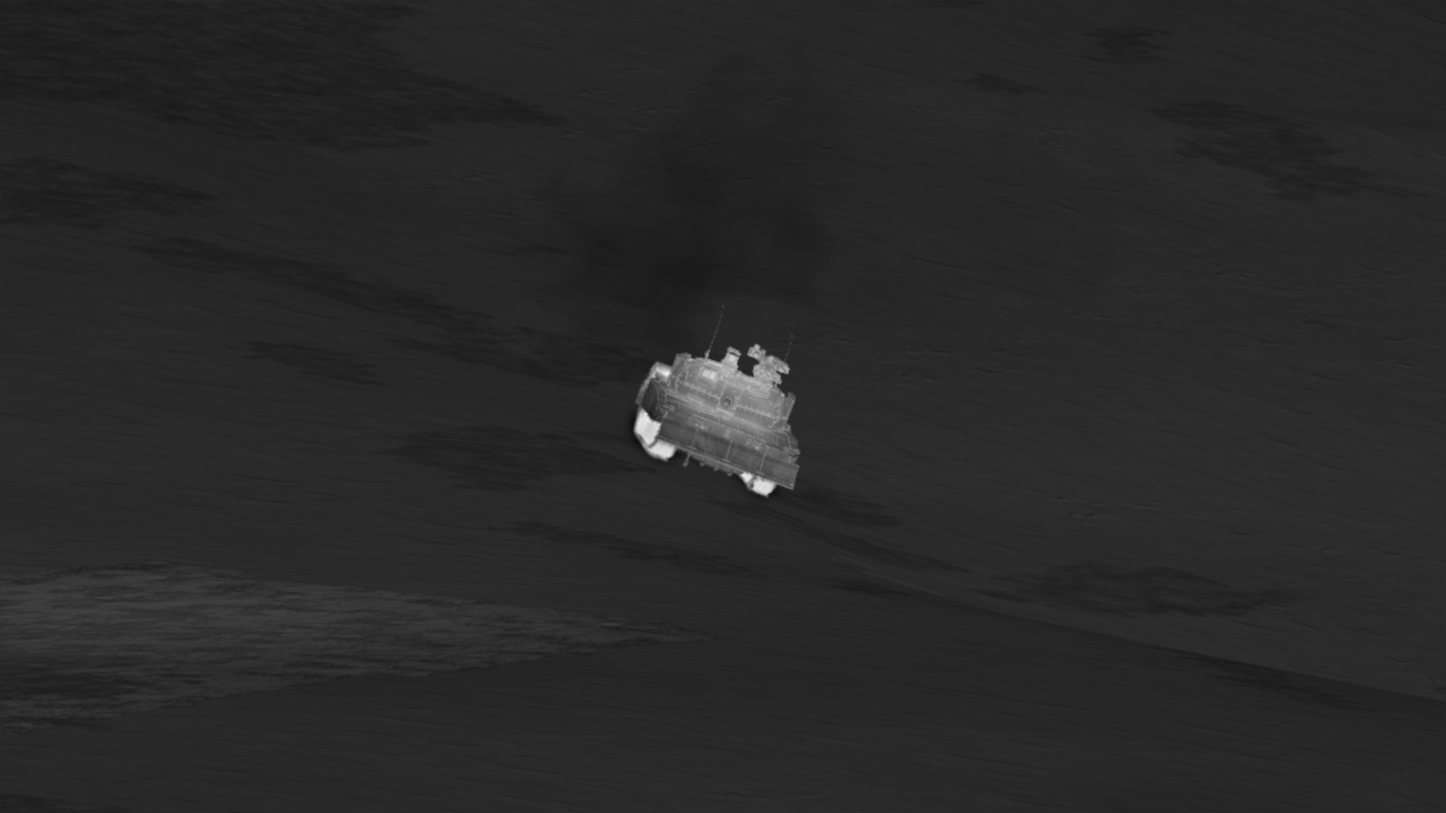leopard2: (633, 346, 801, 499)
